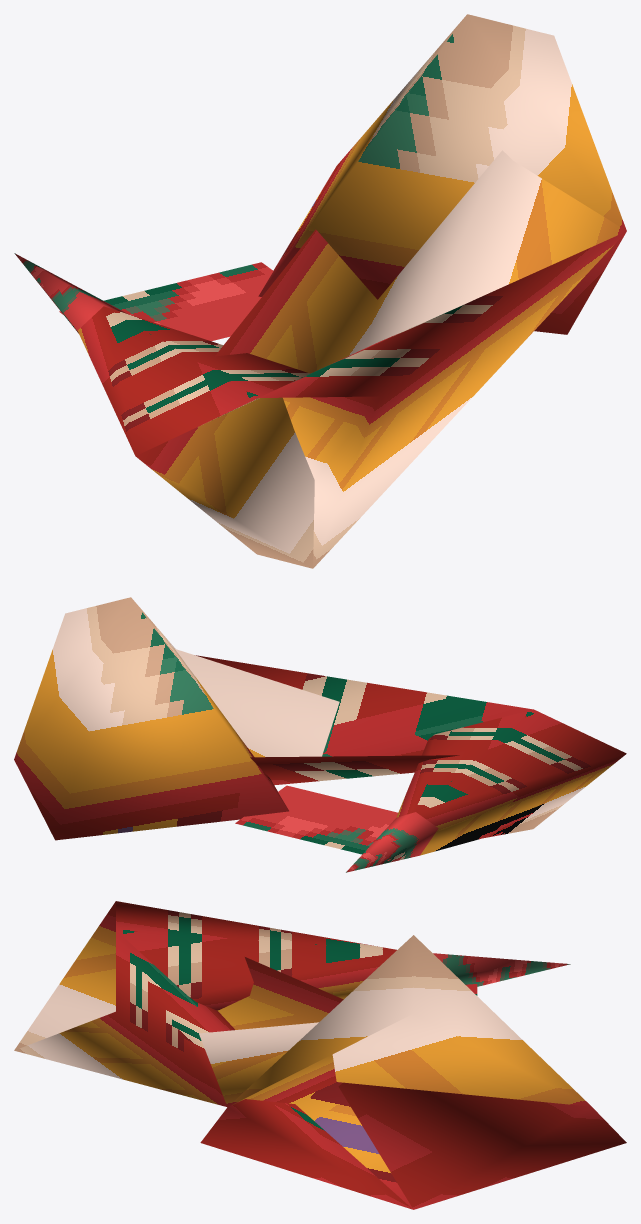
3 views of the same model, one above another, from view 1: azimuth 30°, elevation 25°; view 2: azimuth 150°, elevation 25°; view 3: azimuth 270°, elevation 25° (orthographic). The views are drawn at different scales.
Parts seen in each view (by area): view 1: 5051musi61; view 2: 5051musi61; view 3: 5051musi61.
Boxes of the visible parts, <box> form: 5051musi61: <box>14,14,626,568</box>; 5051musi61: <box>14,597,626,872</box>; 5051musi61: <box>14,901,626,1209</box>.
Bounding box in the file's own units: 0.4058 × 0.2225 × 0.402.
Materials: 1 (1 with a texture image).
